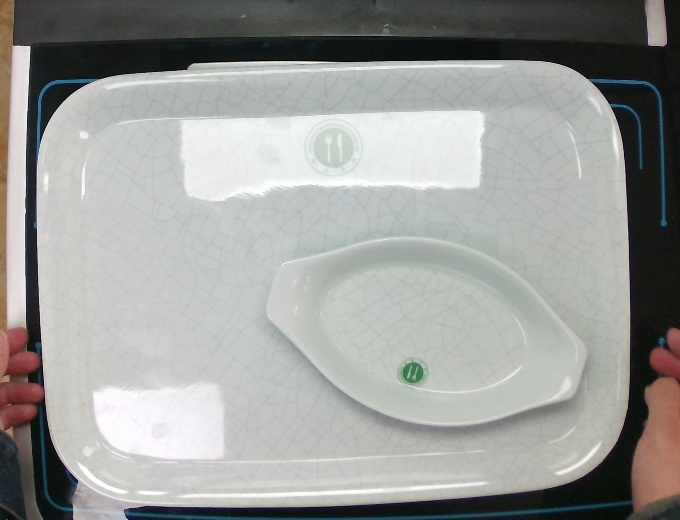JYsf-Yu_Pan: (252, 228, 593, 437)
